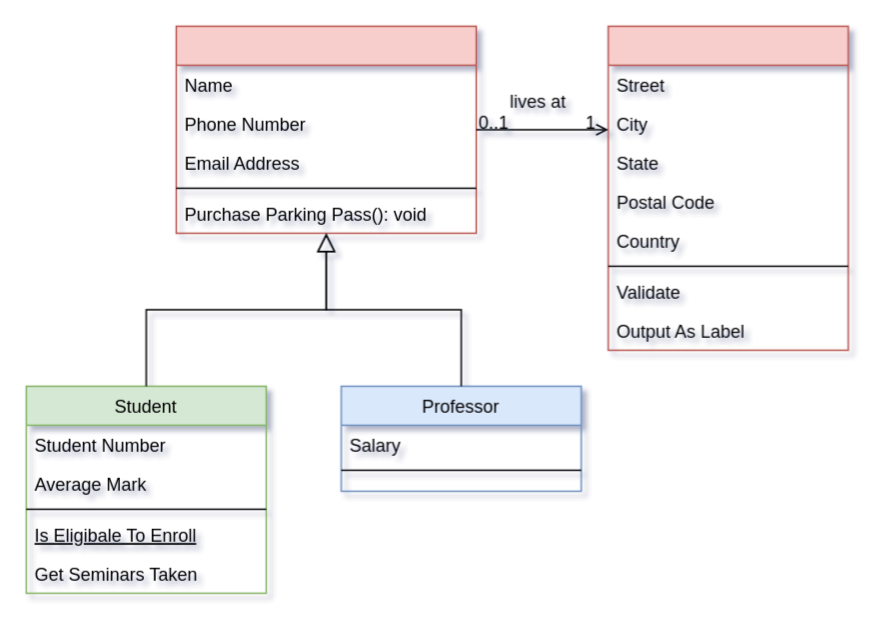
Image size: 884x633. Some labels were removed from this diagram. The box of each missing label's shape, as (x1, y1, x2, y2) in pixels:
Address: (607, 25, 848, 350)
Person: (175, 25, 476, 233)
